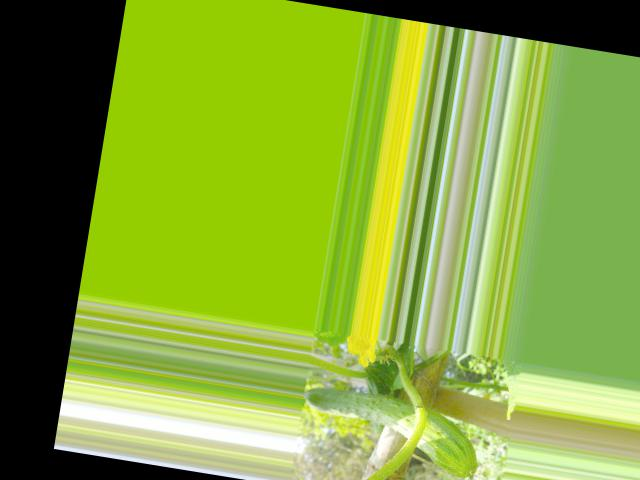cucumber: (295, 383, 485, 478)
